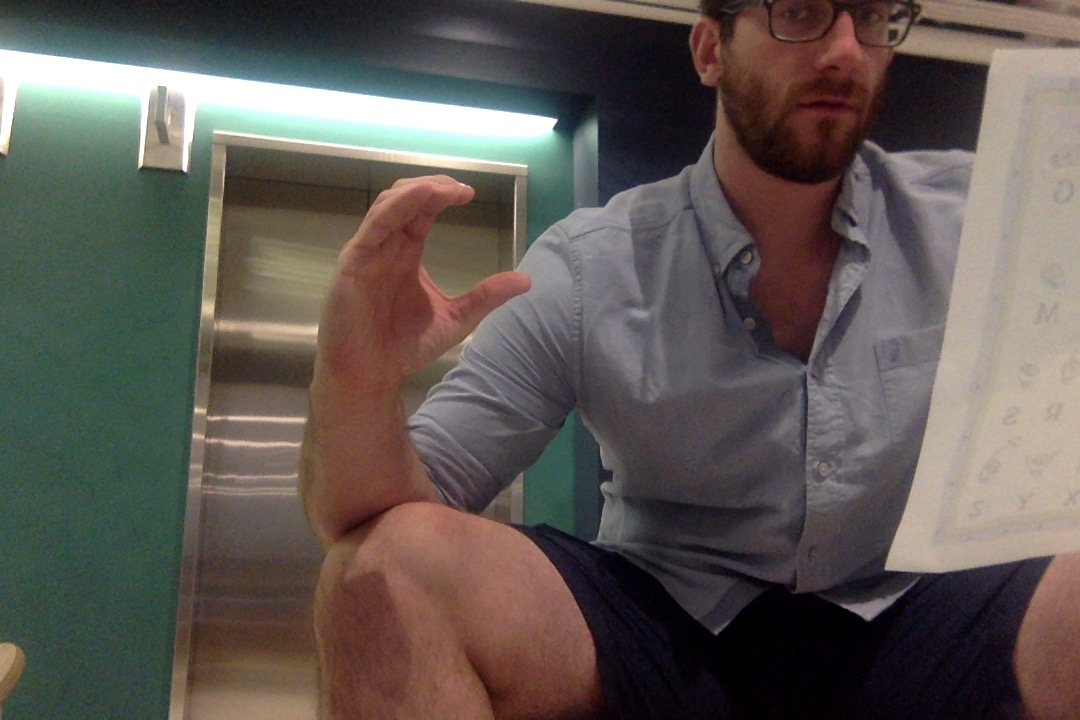c: (313, 171, 534, 377)
